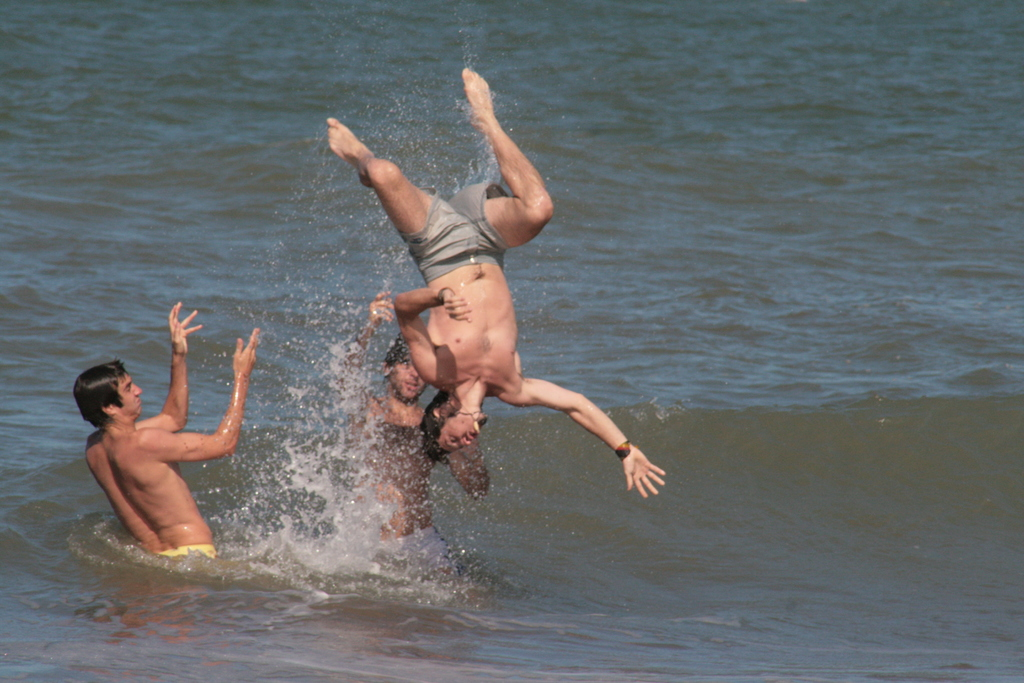Person: (296, 282, 473, 610)
